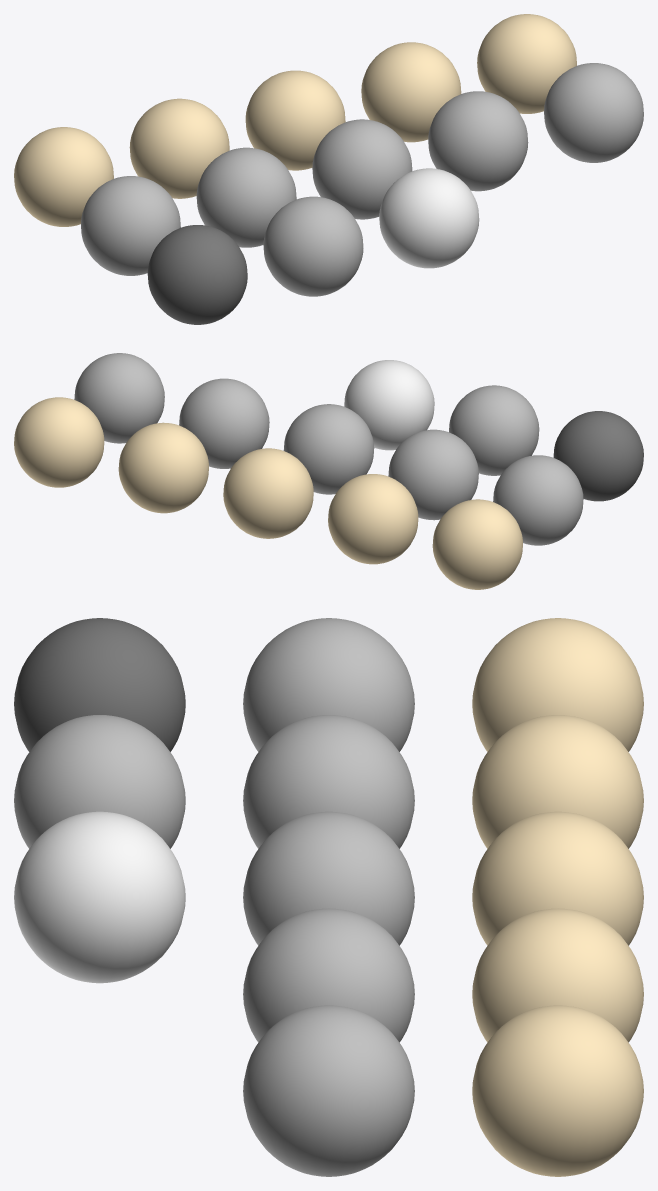
Rendered from calib_rig.glb.
3 views of the same model, one above another, from view 1: azimuth 30°, elevation 25°; view 2: azimuth 150°, elevation 25°; view 3: azimuth 270°, elevation 25° (orthographic). The views are drawn at different scales.
Parts seen in each view (by area): view 1: prop; view 2: prop; view 3: prop.
Boxes of the visible parts, <box> form: prop: <box>14,14,643,324</box>; prop: <box>14,353,643,589</box>; prop: <box>14,618,643,1176</box>.
Bounding box in the file's own units: 7.6 × 1.2 × 4.4.
